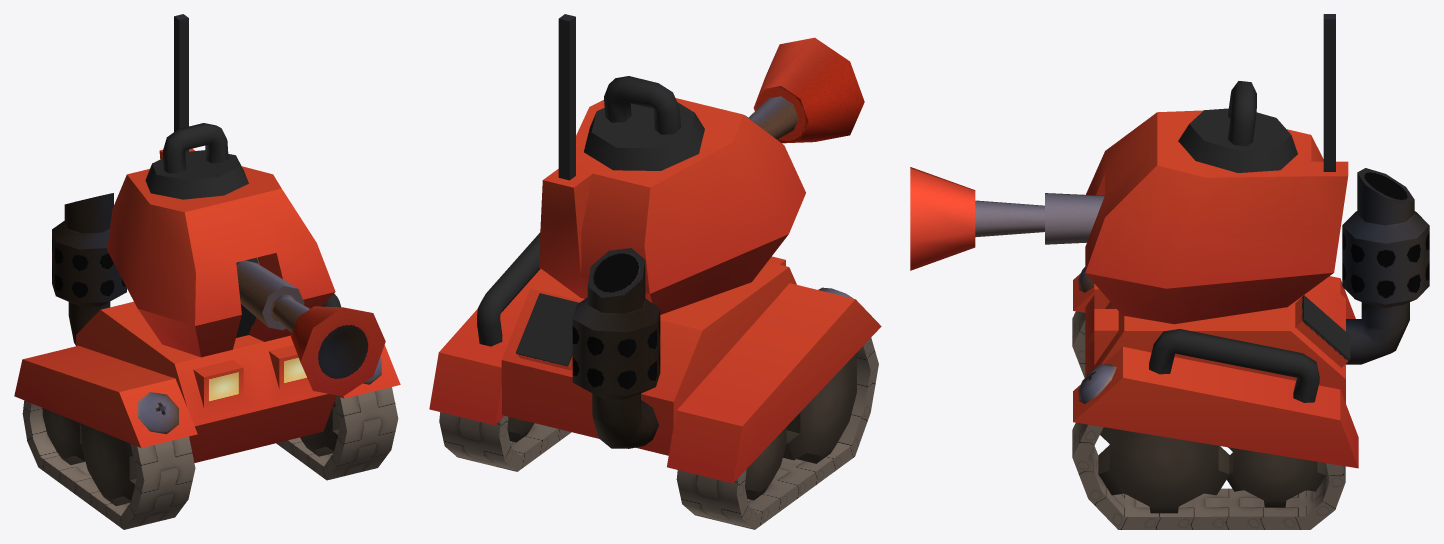
Rendered from mini_tank.glb.
3 views of the same model, side by side, from view 1: azimuth 30°, elevation 25°; view 2: azimuth 150°, elevation 25°; view 3: azimuth 270°, elevation 25° (orthographic). The views are drawn at different scales.
Parts seen in each view (by area): view 1: Body, Head, Trail, barrel, Tailpipe, cap, R_front_wheel, Circle, Antena, R_back_wheel, L_front_wheel; view 2: Body, Head, Tailpipe, Trail, barrel, cap, R_front_wheel, Antena, Circle, Pipe, R_back_wheel; view 3: Head, Body, Tailpipe, Trail, barrel, L_front_wheel, Pipe, cap, L_back_wheel, Antena, Circle.
Boxes of the visible parts, x1,y1,x2,y2 form: Body: (14,301,400,462); Head: (107,148,335,357); Trail: (22,387,398,529); barrel: (236,260,385,396); Tailpipe: (52,193,126,345); cap: (145,150,248,199); R_front_wheel: (81,424,137,506); Circle: (162,123,228,173); Antena: (174,14,188,151); R_back_wheel: (42,408,85,464); L_front_wheel: (300,401,339,456); Body: (429,256,881,483); Head: (538,98,805,314); Tailpipe: (572,248,660,448); Trail: (439,338,878,529); barrel: (744,37,864,143); cap: (584,102,704,170); R_front_wheel: (783,354,856,463); Antena: (558,14,575,180); Circle: (604,76,680,134); Pipe: (477,232,540,346); R_back_wheel: (745,427,786,500); Head: (1085,110,1348,324); Body: (1073,267,1358,468); Tailpipe: (1342,168,1429,364); Trail: (1072,311,1345,529); barrel: (910,167,1104,270); L_front_wheel: (1098,427,1229,513); Pipe: (1149,329,1319,402); cap: (1178,108,1297,172); L_back_wheel: (1227,447,1326,507); Antena: (1323,14,1335,171); Circle: (1228,81,1256,146).
Size of the model in its own units: 2.14 by 3.2 by 3.3.
2 materials, 2 textured.
